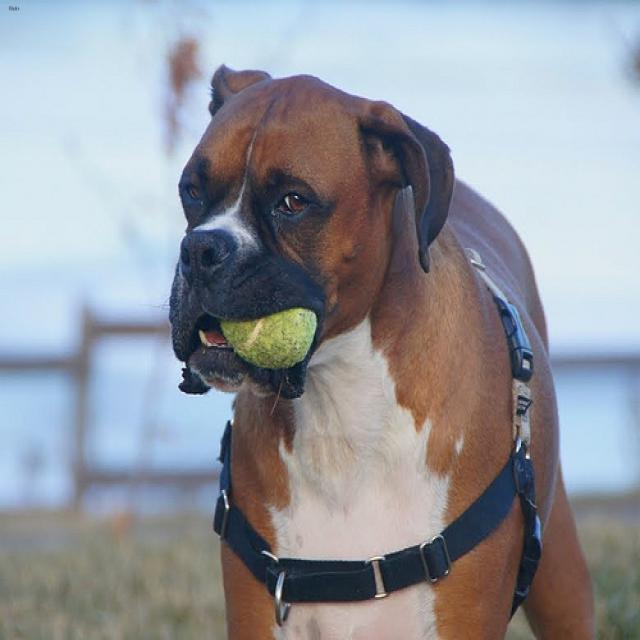dog-boxer: (161, 53, 617, 637)
